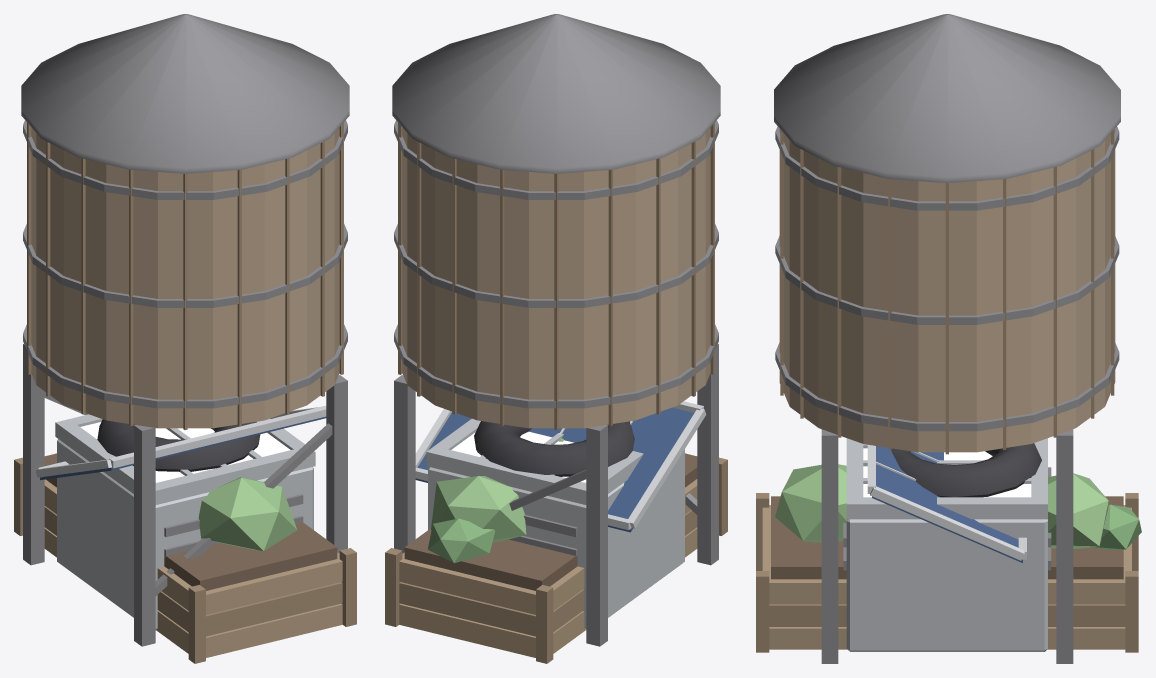
The model's file is roof_extras.glb.
3 renders of one model, left to right at view 1: azimuth 30°, elevation 25°; view 2: azimuth 150°, elevation 25°; view 3: azimuth 270°, elevation 25°, orthographic. The views are drawn at different scales.
Parts seen in each view (by area): view 1: rx_tank_mesh, rx_bed_mesh, rx_vent_mesh, rx_solar_mesh, rx_tyres_mesh; view 2: rx_tank_mesh, rx_bed_mesh, rx_vent_mesh, rx_solar_mesh, rx_tyres_mesh; view 3: rx_tank_mesh, rx_vent_mesh, rx_bed_mesh, rx_solar_mesh, rx_tyres_mesh.
Part boxes in pixels (x1=…): rx_tank_mesh: x1=21, y1=14, x2=349, y2=646; rx_bed_mesh: x1=14, y1=453, x2=356, y2=663; rx_vent_mesh: x1=55, y1=414, x2=315, y2=629; rx_solar_mesh: x1=35, y1=405, x2=326, y2=479; rx_tyres_mesh: x1=97, y1=419, x2=260, y2=471; rx_tank_mesh: x1=392, y1=14, x2=720, y2=646; rx_bed_mesh: x1=385, y1=438, x2=727, y2=663; rx_vent_mesh: x1=426, y1=418, x2=684, y2=629; rx_solar_mesh: x1=415, y1=401, x2=706, y2=532; rx_tyres_mesh: x1=474, y1=421, x2=634, y2=476; rx_tank_mesh: x1=774, y1=14, x2=1120, y2=663; rx_vent_mesh: x1=843, y1=438, x2=1051, y2=651; rx_bed_mesh: x1=756, y1=464, x2=1141, y2=652; rx_solar_mesh: x1=867, y1=444, x2=1026, y2=562; rx_tyres_mesh: x1=891, y1=443, x2=1041, y2=497.
Bounding box in the file's own units: 2.1 × 3.92 × 2.3.
